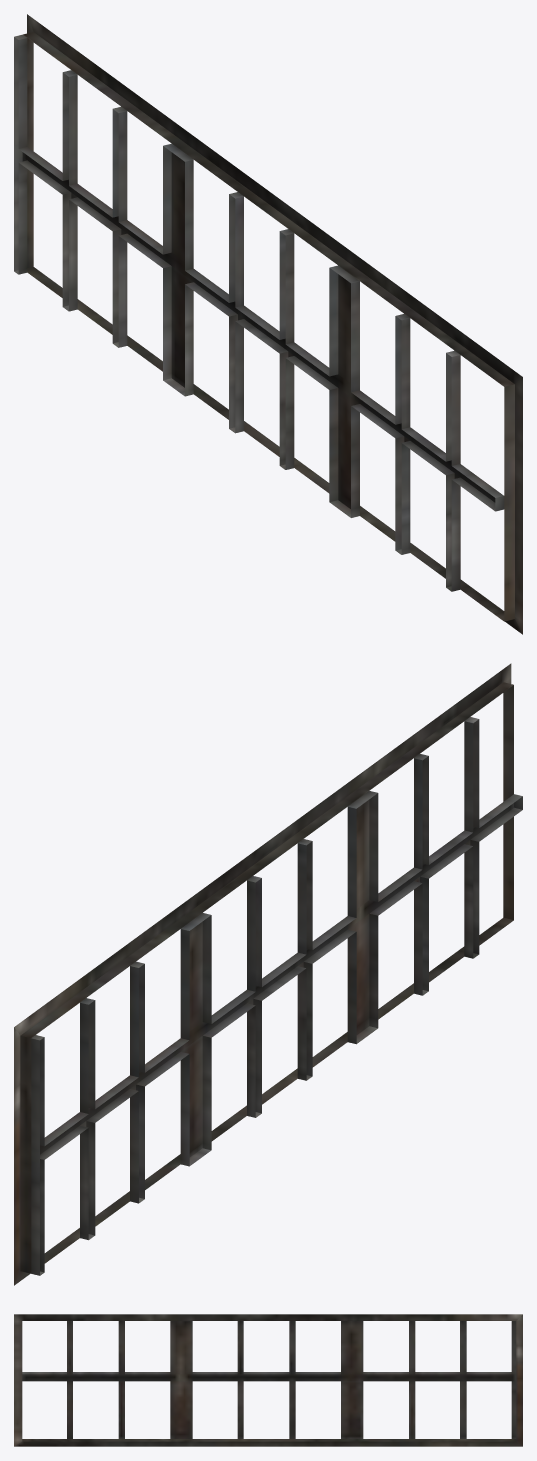
The model's file is LongWindow_02.FBX.
The picture shows the model from 3 angles, top to bottom: view 1: azimuth 30°, elevation 25°; view 2: azimuth 150°, elevation 25°; view 3: azimuth 270°, elevation 25°; orthographic projection. The views are drawn at different scales.
Parts seen in each view (by area): view 1: LongWindow_02; view 2: LongWindow_02; view 3: LongWindow_02.
Boxes of the visible parts, x1,y1,x2,y2 form: LongWindow_02: [14, 14, 522, 634]; LongWindow_02: [14, 663, 522, 1285]; LongWindow_02: [14, 1314, 522, 1446].
Size of the model in its own units: 18.23 by 230 by 801.
